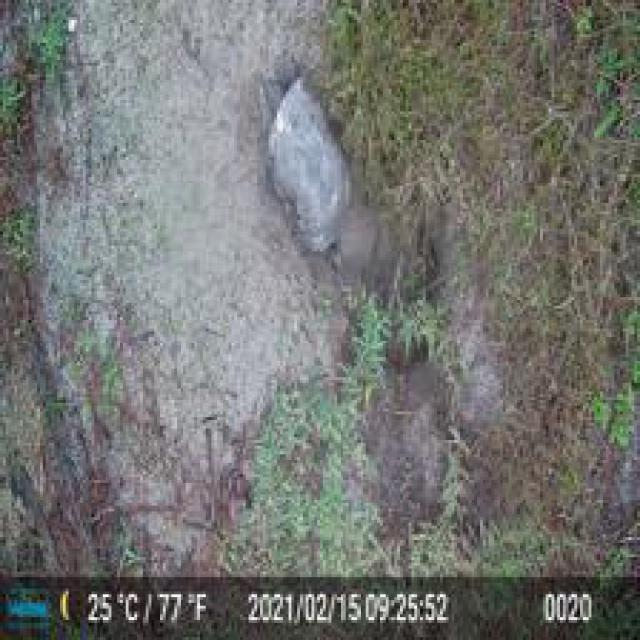tortoise: (252, 66, 355, 263)
